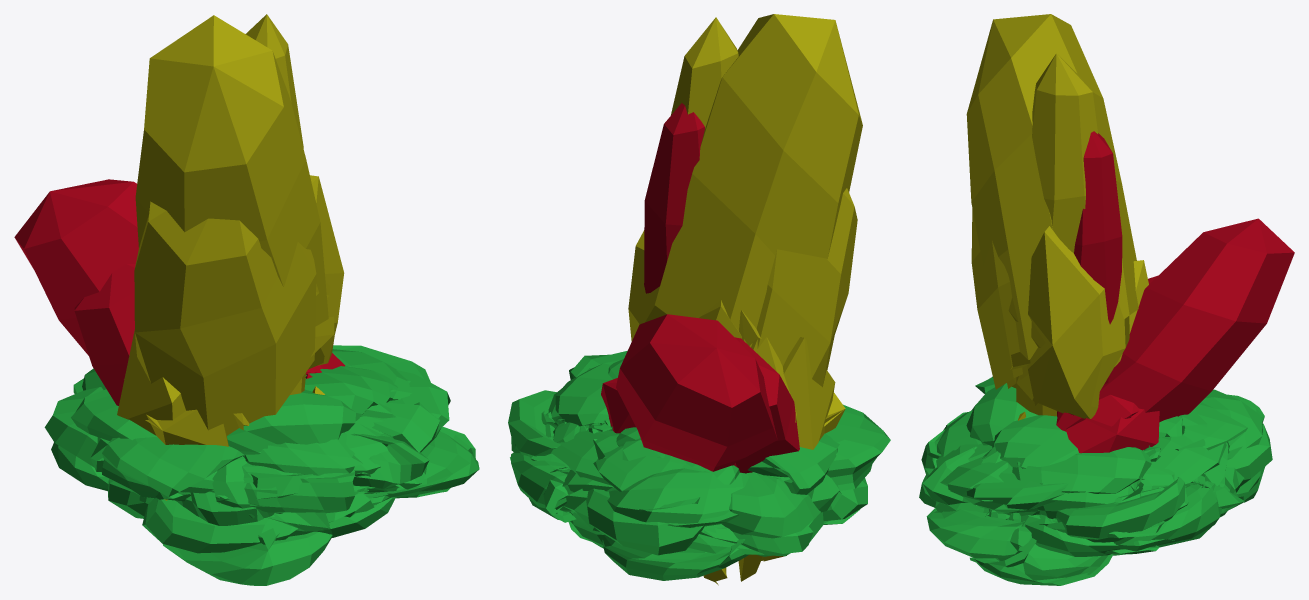
File: crystal17.obj
3 views of the same model, side by side, from view 1: azimuth 30°, elevation 25°; view 2: azimuth 150°, elevation 25°; view 3: azimuth 270°, elevation 25° (orthographic). The views are drawn at different scales.
Parts seen in each view (by area): view 1: Circle.001, Cube.001, Circle; view 2: Circle.001, Cube.001, Circle; view 3: Circle.001, Cube.001, Circle.
Boxes of the visible parts, x1,y1,x2,y2 form: Circle.001: [117, 14, 344, 500]; Cube.001: [44, 345, 479, 585]; Circle: [14, 179, 345, 405]; Circle.001: [628, 14, 862, 585]; Cube.001: [508, 350, 890, 580]; Circle: [601, 103, 799, 473]; Circle.001: [966, 14, 1148, 420]; Cube.001: [919, 376, 1272, 585]; Circle: [1056, 131, 1294, 453].
Bounding box in the file's own units: 2.23 × 3.56 × 2.27.
